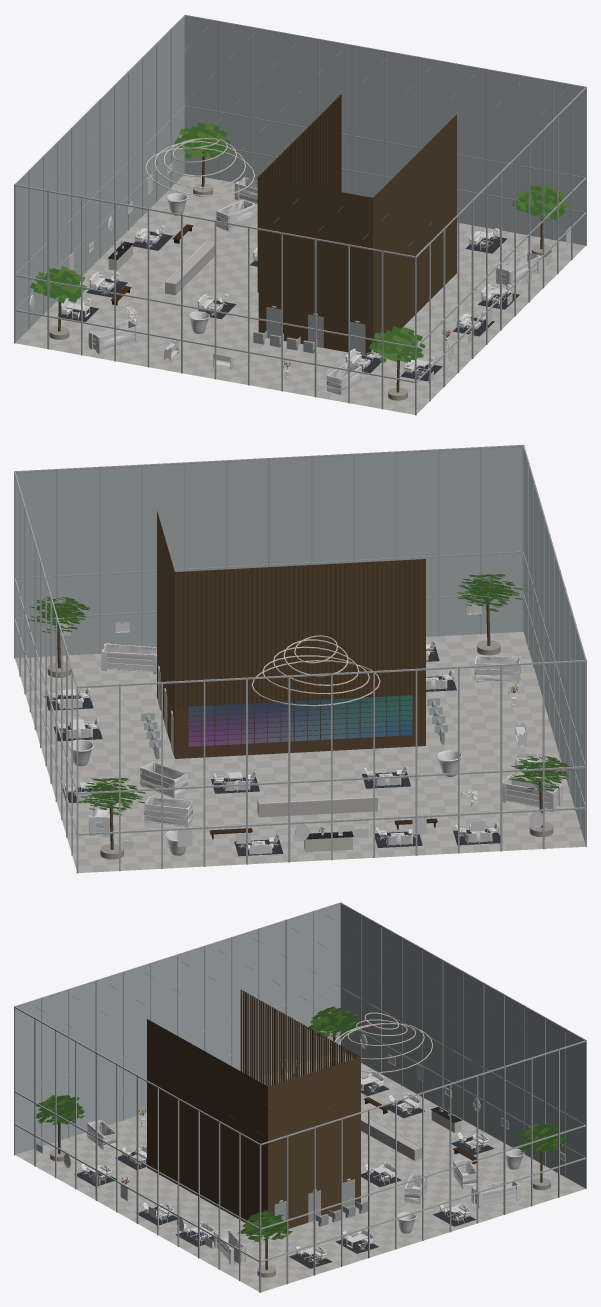
Rendered from salesforce_int.glb.
The picture shows the model from 3 angles, top to bottom: view 1: azimuth 30°, elevation 25°; view 2: azimuth 150°, elevation 25°; view 3: azimuth 270°, elevation 25°; orthographic projection. The views are drawn at different scales.
Visible parts, largest first — view 1: I_glassI, I_x_marble_white, I_x_veneer, I_metal, I_leaf, I_x_carpet_red, I_p_planter_box_02__0, I_p_planter_box_01__0, I_lampI, I_x_gold, I_p_Sofa_01__0, I_x_limestone (+3 smaller); view 2: I_glassI, I_x_marble_white, I_x_veneer, I_metal, I_screen, I_leaf, I_p_planter_box_01__0, I_p_planter_box_02__0, I_x_carpet_red, I_lampI, I_p_Sofa_01__0, I_p_planter_pot_clay__0 (+5 smaller); view 3: I_glassI, I_x_veneer, I_x_marble_white, I_metal, I_leaf, I_x_carpet_red, I_p_planter_box_01__0, I_p_planter_box_02__0, I_lampI, I_p_Sofa_01__0, I_x_gold, I_p_sofa_03__0 (+2 smaller).
Part boxes in pixels (x1,y1,x2,y2): I_glassI: [15, 15, 585, 349]; I_x_marble_white: [15, 174, 585, 414]; I_x_veneer: [111, 95, 456, 355]; I_metal: [14, 15, 586, 415]; I_leaf: [30, 122, 569, 362]; I_x_carpet_red: [61, 231, 519, 381]; I_p_planter_box_02__0: [88, 177, 541, 353]; I_p_planter_box_01__0: [216, 199, 361, 394]; I_lampI: [145, 138, 359, 322]; I_x_gold: [266, 307, 365, 355]; I_p_Sofa_01__0: [61, 247, 496, 363]; I_x_limestone: [49, 183, 551, 400]; I_glassI: [15, 444, 585, 843]; I_x_marble_white: [15, 632, 585, 872]; I_x_veneer: [157, 511, 437, 834]; I_metal: [14, 445, 586, 873]; I_screen: [188, 695, 412, 746]; I_leaf: [28, 574, 571, 815]; I_p_planter_box_01__0: [140, 655, 520, 827]; I_p_planter_box_02__0: [88, 643, 562, 836]; I_x_carpet_red: [44, 646, 500, 856]; I_lampI: [158, 635, 380, 803]; I_p_Sofa_01__0: [68, 679, 492, 846]; I_p_planter_pot_clay__0: [68, 739, 461, 855]; I_glassI: [15, 902, 585, 1223]; I_x_veneer: [147, 989, 476, 1230]; I_x_marble_white: [15, 1051, 585, 1291]; I_metal: [14, 902, 586, 1292]; I_leaf: [34, 1006, 567, 1241]; I_x_carpet_red: [74, 1077, 493, 1268]; I_p_planter_box_01__0: [87, 1120, 476, 1203]; I_p_planter_box_02__0: [214, 1059, 520, 1264]; I_lampI: [279, 1012, 432, 1202]; I_p_Sofa_01__0: [135, 1071, 420, 1244]; I_x_gold: [274, 1179, 354, 1233]; I_p_sofa_03__0: [97, 1133, 488, 1260].
Size of the model in its own units: 54.09 by 15.5 by 54.09.
